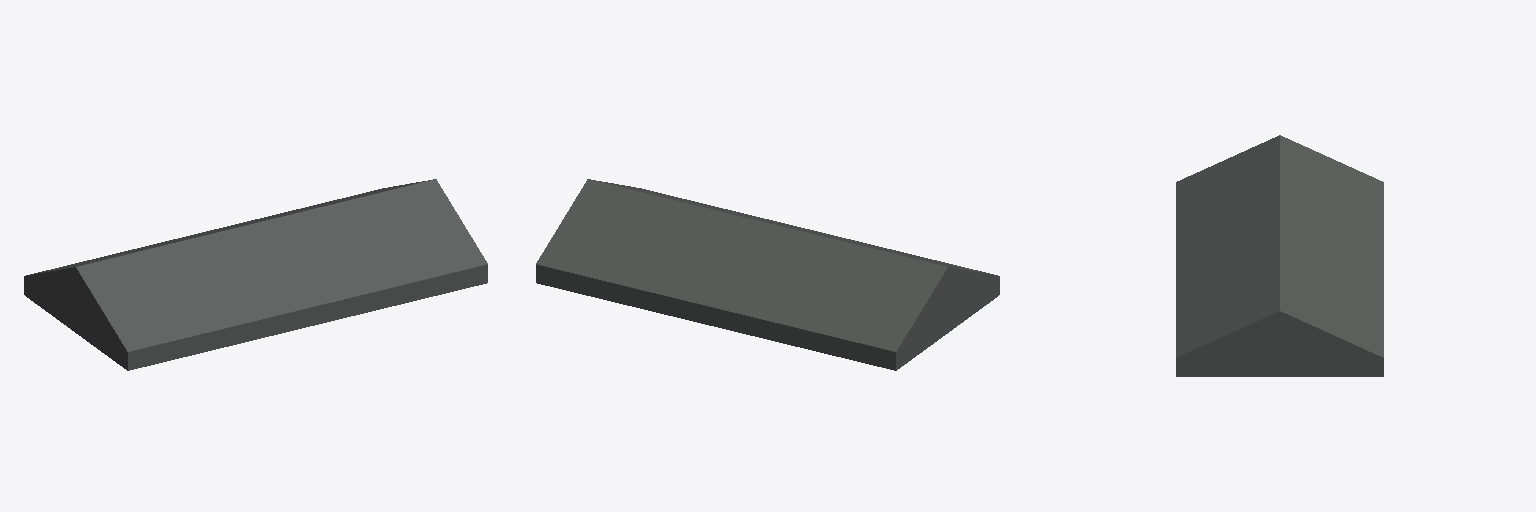
Rendered from Roof_tile_33_2x4_Double.obj.
3 renders of one model, left to right at view 1: azimuth 30°, elevation 25°; view 2: azimuth 150°, elevation 25°; view 3: azimuth 270°, elevation 25°, orthographic.
Visible parts, largest first — view 1: 3299_1.3299_1n_3299_1, box4o4a_1.box4o4a_1n_box4o4a_1.001; view 2: 3299_1.3299_1n_3299_1, box4o4a_1.box4o4a_1n_box4o4a_1.001; view 3: 3299_1.3299_1n_3299_1, box4o4a_1.box4o4a_1n_box4o4a_1.001.
Part boxes in pixels (left/top/right/bottom): 3299_1.3299_1n_3299_1: left=24, top=179, right=487, bottom=351; box4o4a_1.box4o4a_1n_box4o4a_1.001: left=24, top=264, right=487, bottom=370; 3299_1.3299_1n_3299_1: left=536, top=179, right=999, bottom=351; box4o4a_1.box4o4a_1n_box4o4a_1.001: left=536, top=264, right=999, bottom=370; 3299_1.3299_1n_3299_1: left=1176, top=135, right=1383, bottom=357; box4o4a_1.box4o4a_1n_box4o4a_1.001: left=1176, top=358, right=1383, bottom=376.
Bounding box in the file's own units: 8 × 1.4 × 4.